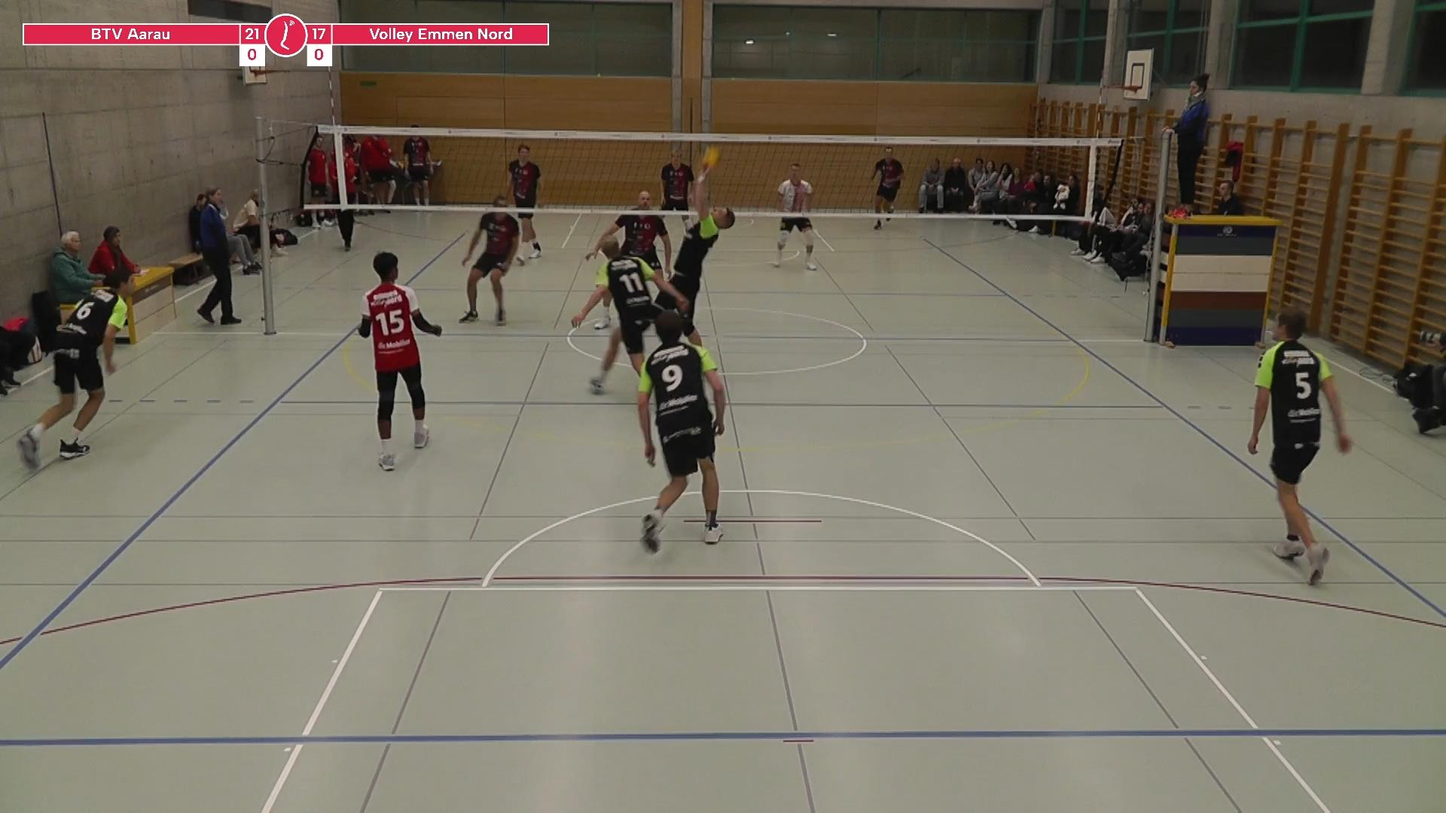alzata: (658, 169, 736, 371)
